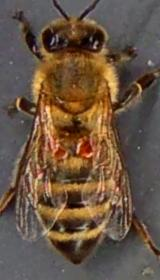varroa_mite: (71, 130, 99, 162), (48, 136, 70, 162)
